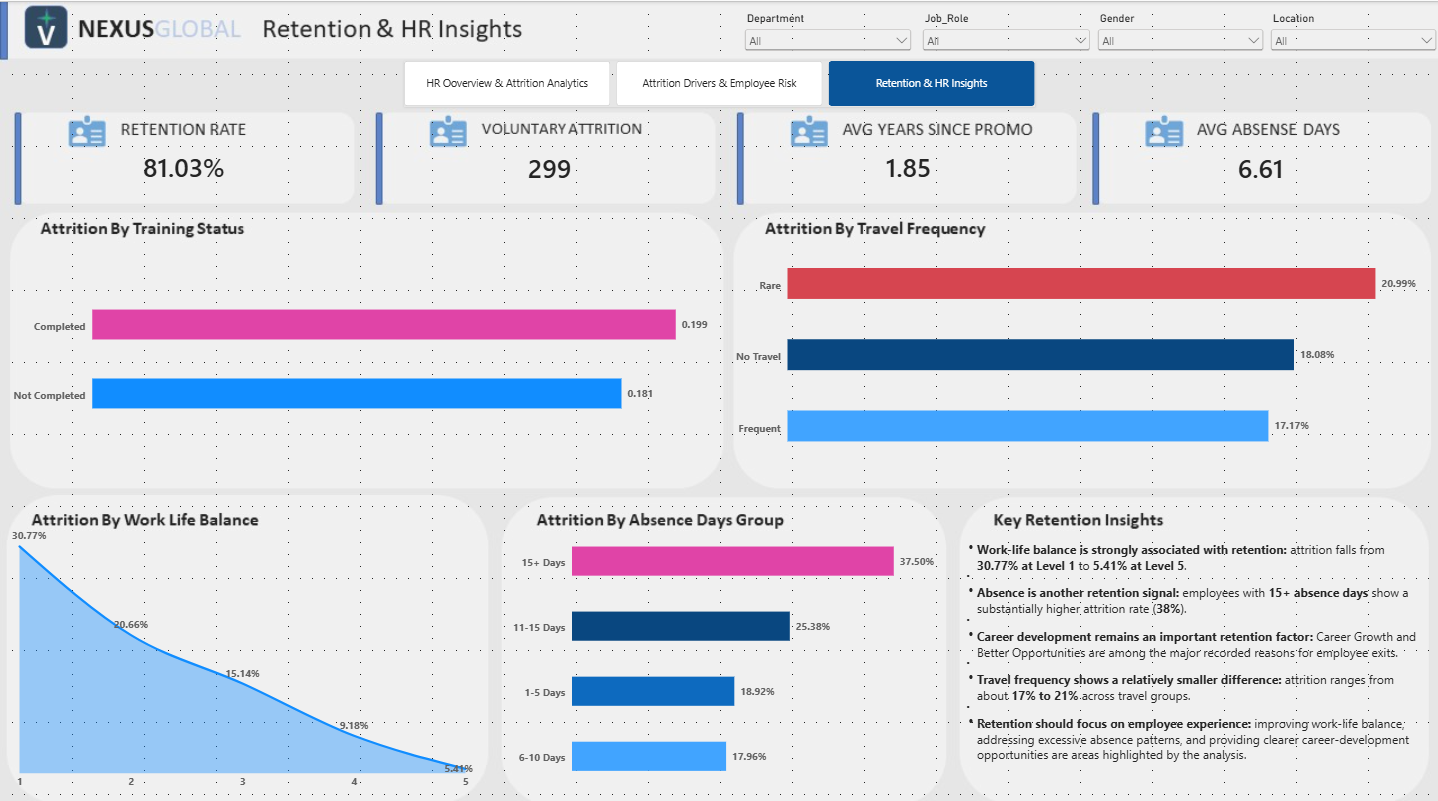

This screenshot's page, from the dashboard's own definition file:
{"tool":"powerbi","page":{"name":"Retention & HR Insights","canvas":[1920,1080],"ordinal":2},"visuals":[{"type":"card","fields":{"Values":["Attendance_Attrition.Rentention Rate"]},"box":[18.9,179.8,453.2,81.8],"z":0},{"type":"card","fields":{"Values":["Attendance_Attrition.Voluntary Attrition"]},"box":[505.7,181.2,454.7,81.3],"z":1000},{"type":"card","fields":{"Values":["Employment_History.Avg Years Since Promotion"]},"box":[988.4,175.8,446.7,90.7],"z":2000},{"type":"card","fields":{"Values":["Attendance_Attrition.Avg Absence Days"]},"box":[1457.6,179.8,446.7,84],"z":3000},{"type":"clusteredBarChart","fields":{"Category":["Attendance_Attrition.Absense Days Group"],"Y":["Attendance_Attrition.ATTRITION RATE"]},"box":[666.6,669.3,594.9,411],"z":4000},{"type":"areaChart","fields":{"Category":["Performance.Work_Life_Balance"],"Y":["Attendance_Attrition.ATTRITION RATE"]},"box":[0,653.1,646.3,427.3],"z":5000},{"type":"clusteredBarChart","fields":{"Category":["Attendance_Attrition.Travel_Frequency"],"Y":["Attendance_Attrition.ATTRITION RATE"]},"box":[964.1,294.8,939.9,351.5],"z":6000},{"type":"pageNavigator","box":[538.1,78.4,842.4,60.8],"z":7000},{"type":"slicer","fields":{"Values":["Employees.Department"]},"box":[988,13.3,232,61.3],"z":8000},{"type":"slicer","fields":{"Values":["Employees.Job_Role"]},"box":[1225.3,13.3,233.3,61.3],"z":9000},{"type":"slicer","fields":{"Values":["Employees.Gender"]},"box":[1458.7,13.3,230.7,61.3],"z":10000},{"type":"slicer","fields":{"Values":["Employees.Location"]},"box":[1689.3,13.3,230.7,61.3],"z":11000},{"type":"textbox","box":[1278.7,728,625.3,341.3],"z":12000},{"type":"clusteredBarChart","fields":{"Category":["Performance.Training  Complete Status"],"Y":["Attendance_Attrition.ATTRITION RATE"]},"box":[0,305.3,960,341.3],"z":13000}]}

Visuals, with their boxes in screenshot pixels (x1, y1, x2, y2), scaled from the page's 1920x1080 canvas onto the 1438x801 screenshot:
card - Attendance_Attrition.Rentention Rate: [x1=14, y1=133, x2=354, y2=194]
card - Attendance_Attrition.Voluntary Attrition: [x1=379, y1=134, x2=719, y2=195]
card - Employment_History.Avg Years Since Promotion: [x1=740, y1=130, x2=1075, y2=198]
card - Attendance_Attrition.Avg Absence Days: [x1=1092, y1=133, x2=1426, y2=196]
clusteredBarChart - Attendance_Attrition.Absense Days Group x Attendance_Attrition.ATTRITION RATE: [x1=499, y1=496, x2=945, y2=800]
areaChart - Performance.Work_Life_Balance x Attendance_Attrition.ATTRITION RATE: [x1=0, y1=484, x2=484, y2=800]
clusteredBarChart - Attendance_Attrition.Travel_Frequency x Attendance_Attrition.ATTRITION RATE: [x1=722, y1=219, x2=1426, y2=479]
pageNavigator: [x1=403, y1=58, x2=1034, y2=103]
slicer - Employees.Department: [x1=740, y1=10, x2=914, y2=55]
slicer - Employees.Job_Role: [x1=918, y1=10, x2=1092, y2=55]
slicer - Employees.Gender: [x1=1093, y1=10, x2=1265, y2=55]
slicer - Employees.Location: [x1=1265, y1=10, x2=1437, y2=55]
textbox: [x1=958, y1=540, x2=1426, y2=793]
clusteredBarChart - Performance.Training  Complete Status x Attendance_Attrition.ATTRITION RATE: [x1=0, y1=226, x2=719, y2=480]
